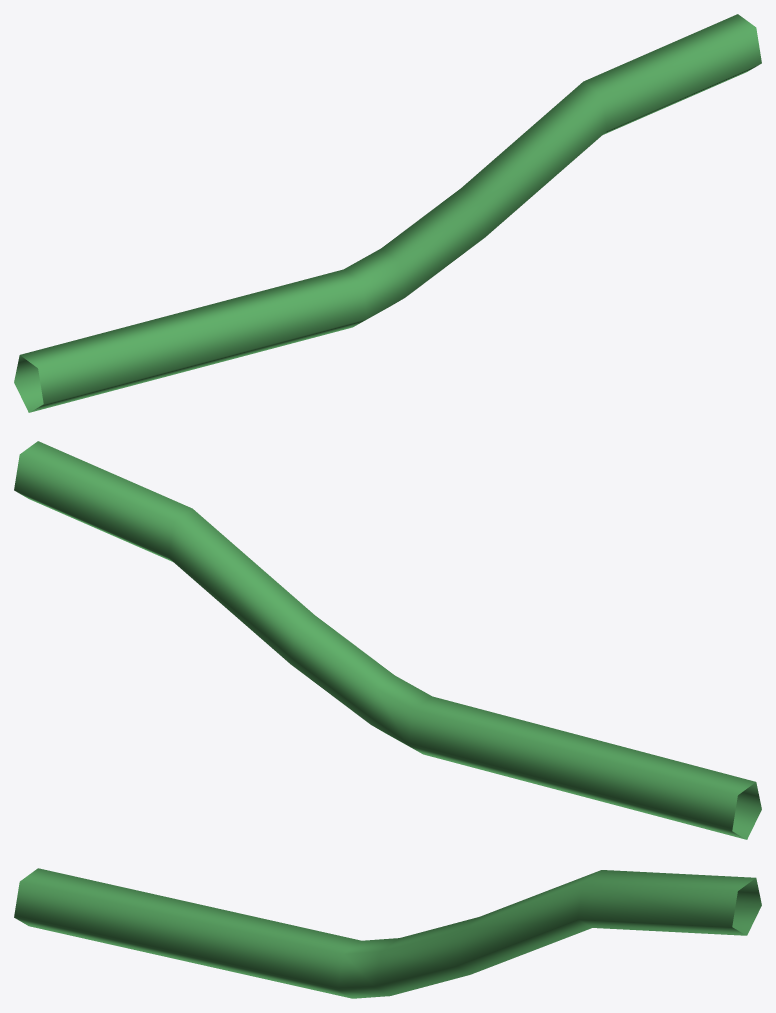
File: PipeD_1.fbx
3 renders of one model, top to bottom at view 1: azimuth 30°, elevation 25°; view 2: azimuth 150°, elevation 25°; view 3: azimuth 330°, elevation 25°, orthographic.
Parts seen in each view (by area): view 1: PipeD_1; view 2: PipeD_1; view 3: PipeD_1.
Boxes of the visible parts, left/top/right/bottom form: PipeD_1: left=14, top=14, right=761, bottom=412; PipeD_1: left=14, top=441, right=761, bottom=839; PipeD_1: left=14, top=868, right=761, bottom=998.
Size of the model in its own units: 220 by 63.52 by 15.8.
